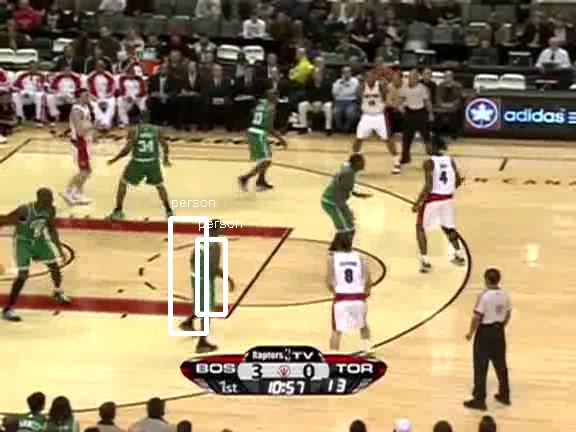person: (188, 236, 222, 317), (187, 236, 221, 317), (189, 236, 223, 317), (188, 235, 222, 316), (188, 237, 222, 318)
target_negative: (158, 71, 439, 354), (348, 372, 462, 429), (30, 331, 90, 422), (157, 422, 268, 431), (523, 380, 570, 392), (13, 303, 311, 304)
